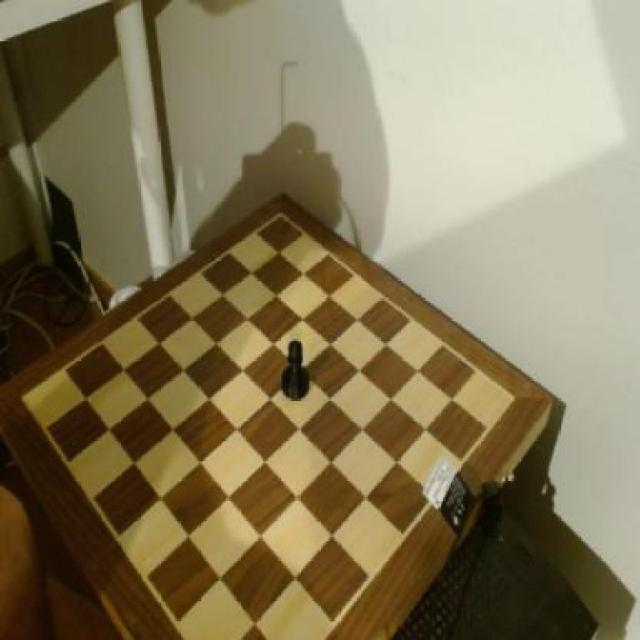black-knight: (282, 328, 312, 408)
